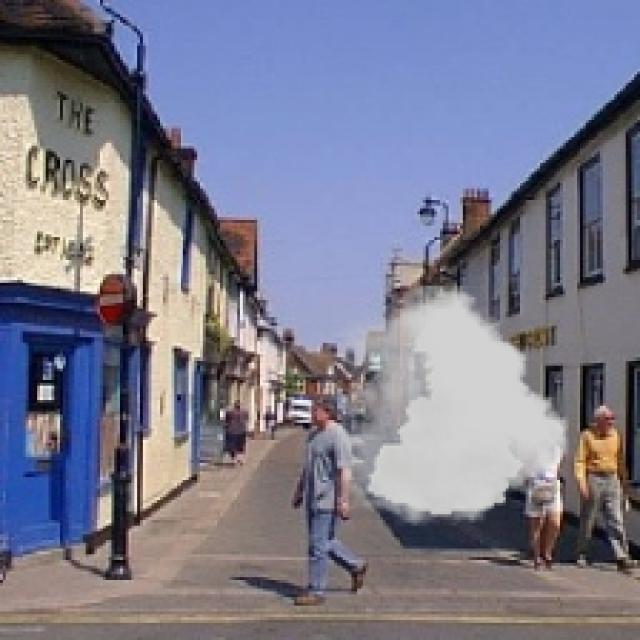Smoke: (332, 286, 568, 526)
